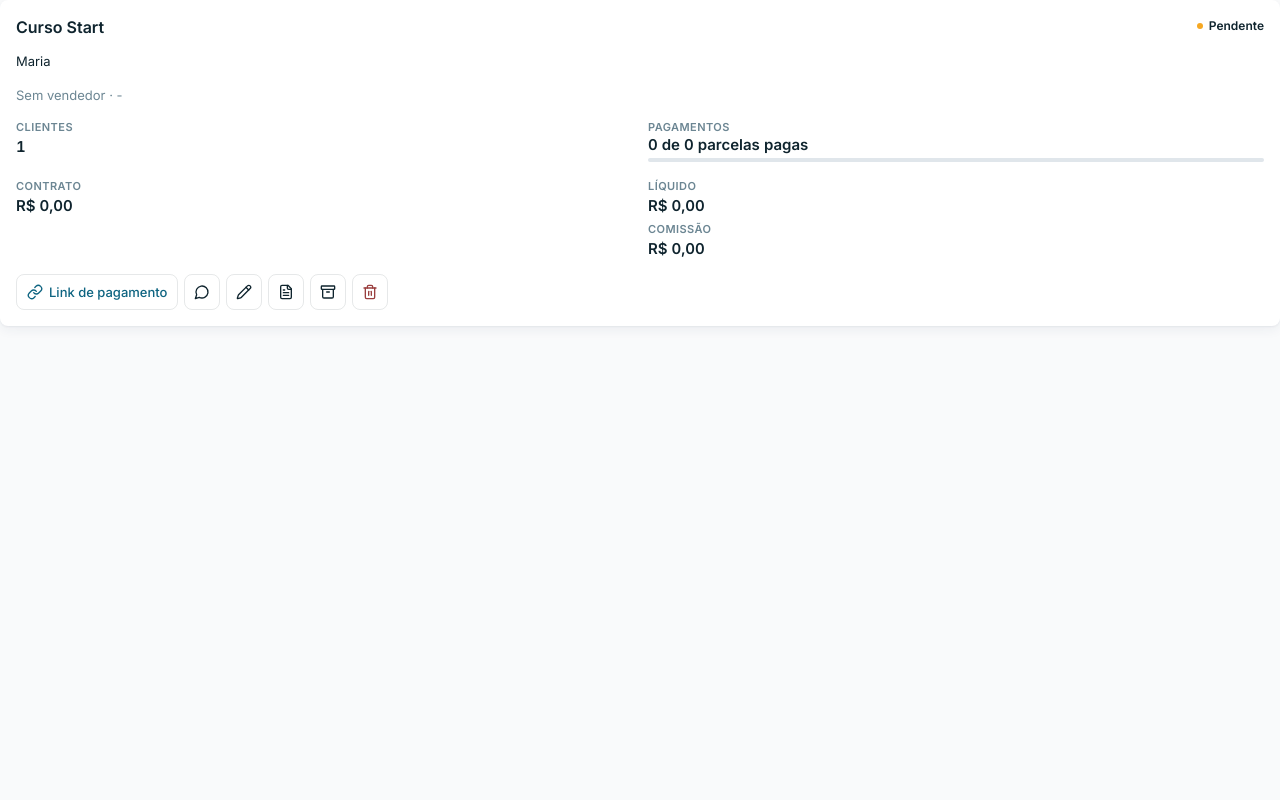
Test case: sale list client names and actions › keeps Editar, Arquivar and Excluir on the card, with the delete confirmation
This screenshot has width=1280, height=800.
Check: the button named "Arquivar" is shown, box [310, 274, 346, 310]
Click the button named "Excluir" at (370, 292), box [352, 274, 388, 310]
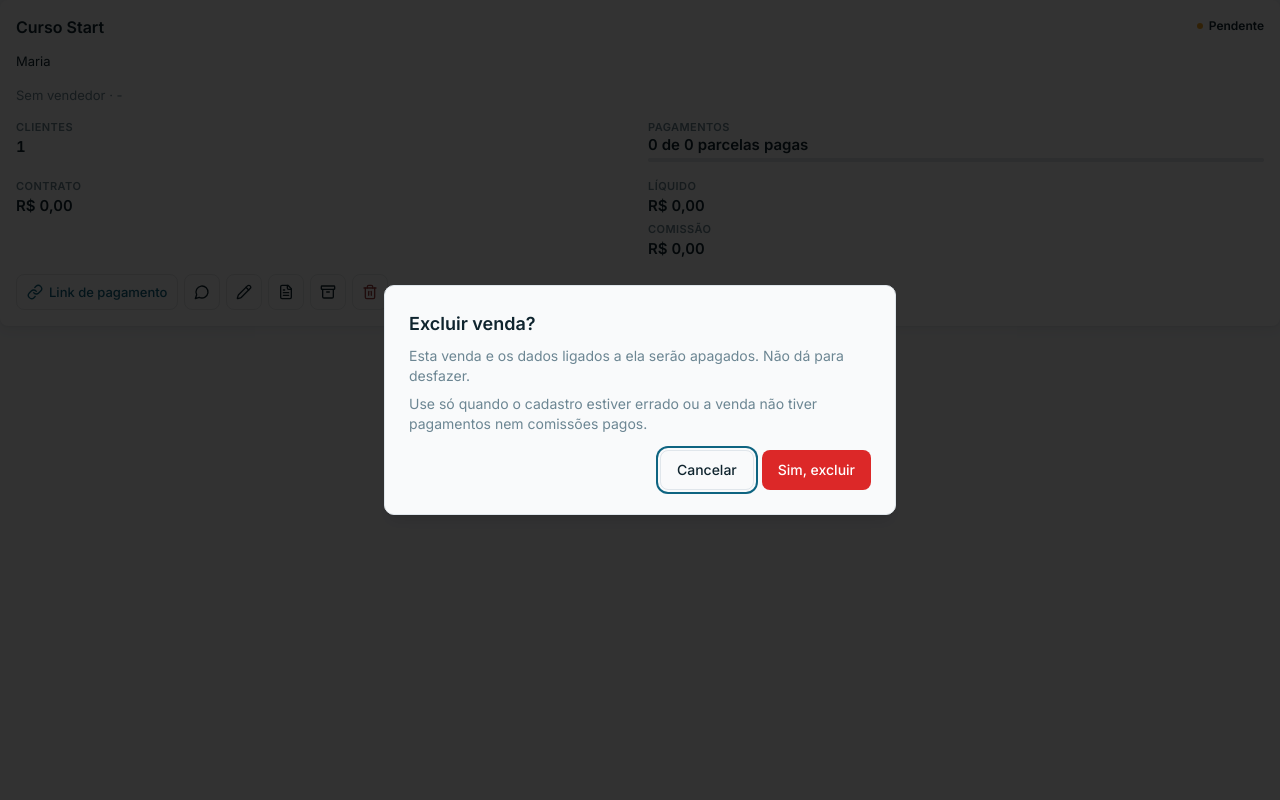
Check: the dialog "Excluir venda?" is shown, box [384, 285, 896, 515]
